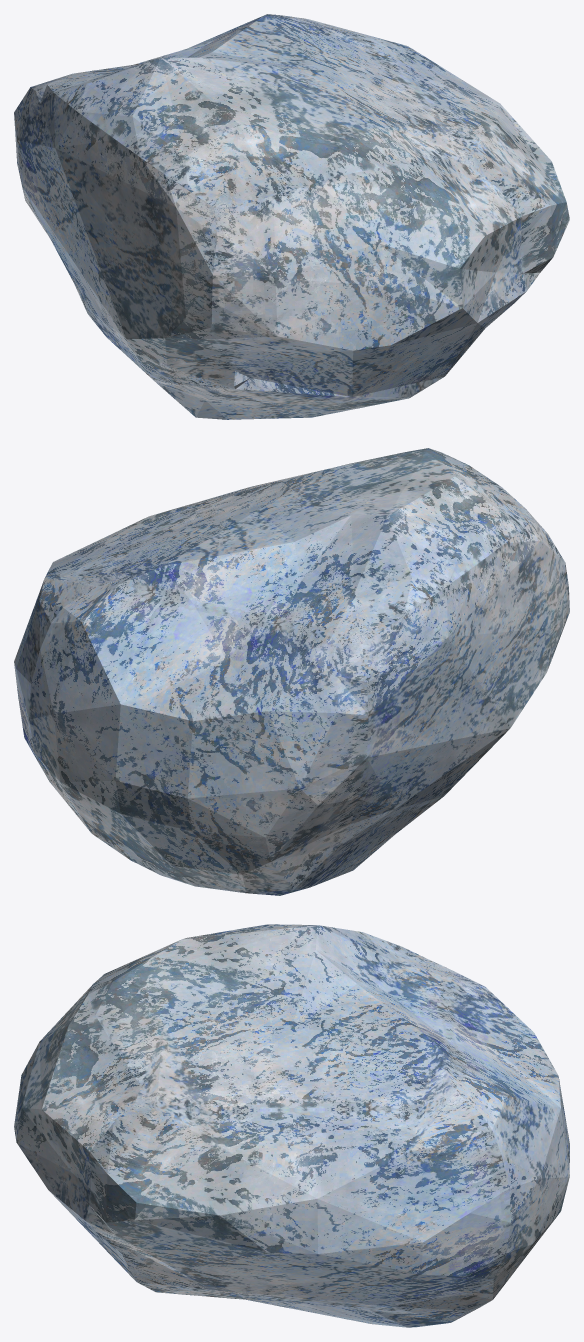
File: asteroid_ice_medium_s02_l1.fbx
3 views of the same model, one above another, from view 1: azimuth 30°, elevation 25°; view 2: azimuth 150°, elevation 25°; view 3: azimuth 270°, elevation 25° (orthographic). The views are drawn at different scales.
Visible parts, largest first — view 1: mesh_node; view 2: mesh_node; view 3: mesh_node.
Part boxes in pixels (x1,y1,x2,y2): mesh_node: (14, 14, 569, 419); mesh_node: (14, 448, 569, 895); mesh_node: (14, 924, 569, 1327).
Bounding box in the file's own units: 63.38 × 53.23 × 76.11.
1 material, 1 textured.
